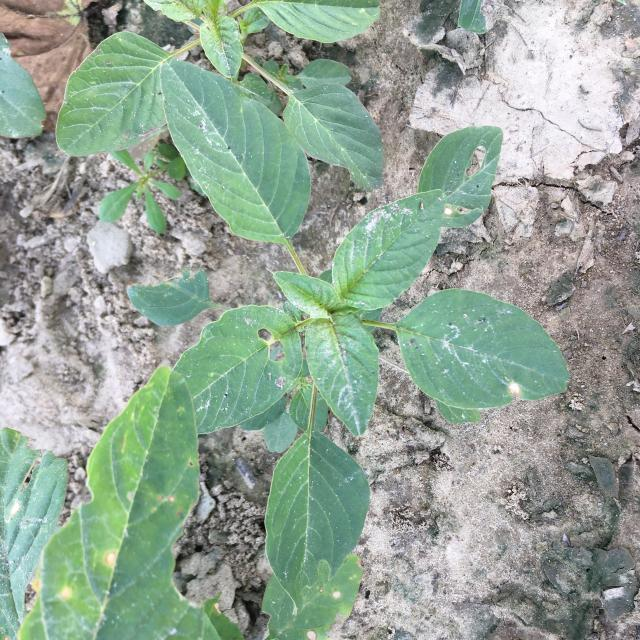Carpetweed: (98, 144, 187, 235)
PalmerAmaranth: (55, 0, 571, 614)
